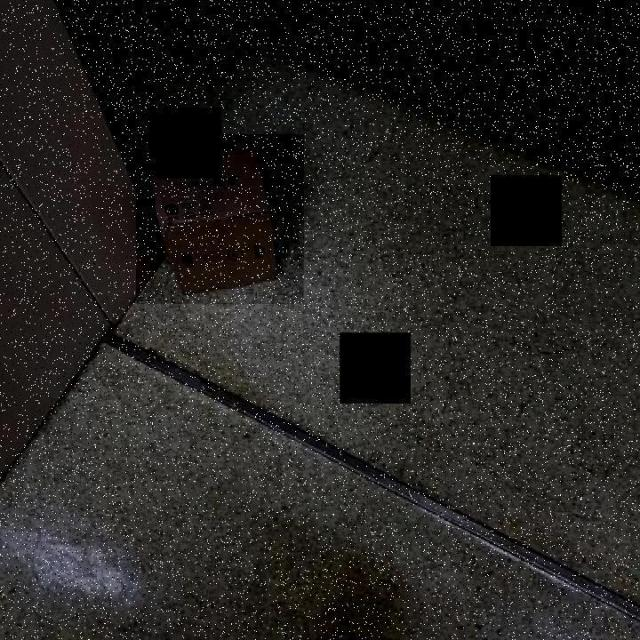box: (136, 135, 304, 306)
